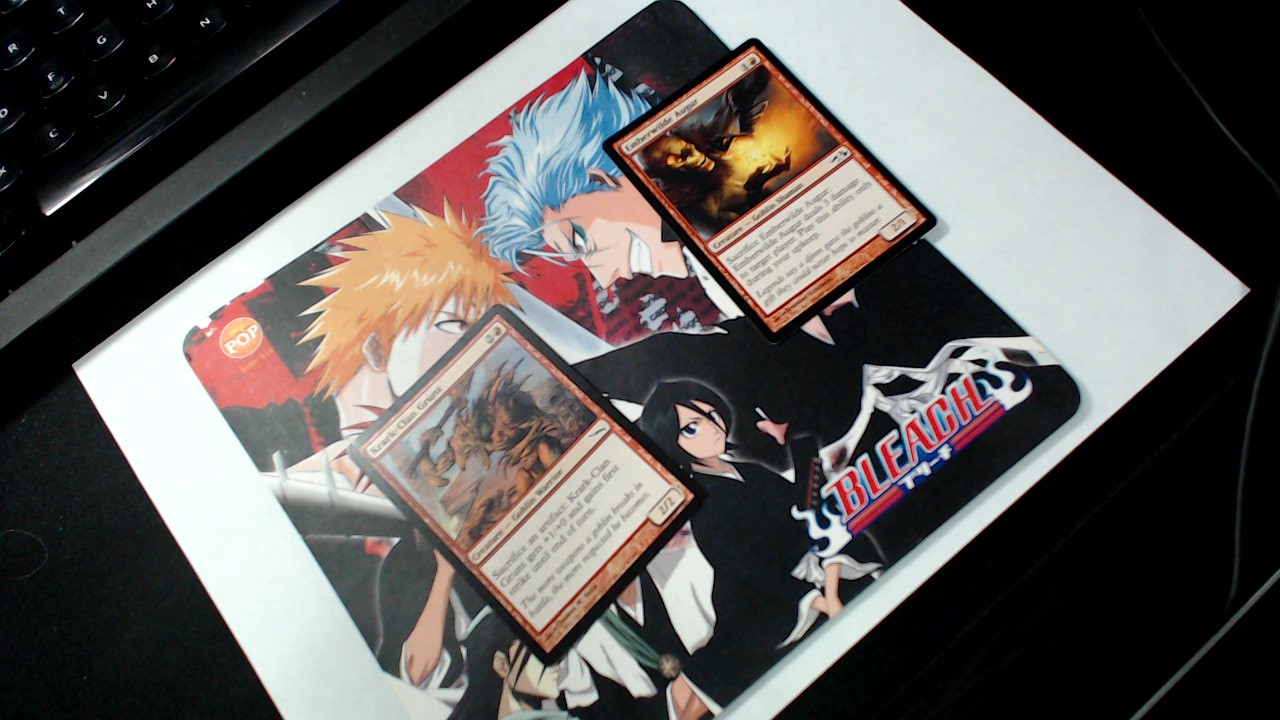MTG Card: (339, 298, 715, 673), (594, 32, 958, 351)
